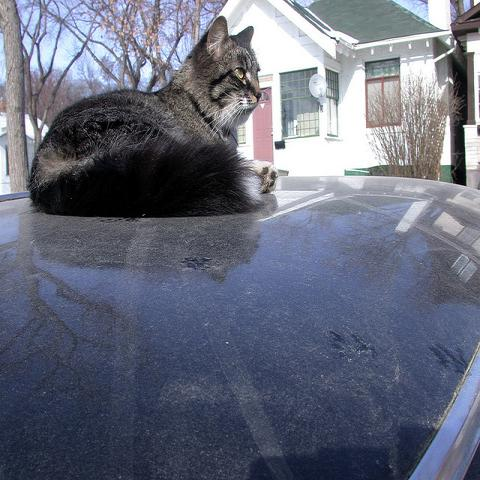car: (1, 172, 479, 479)
